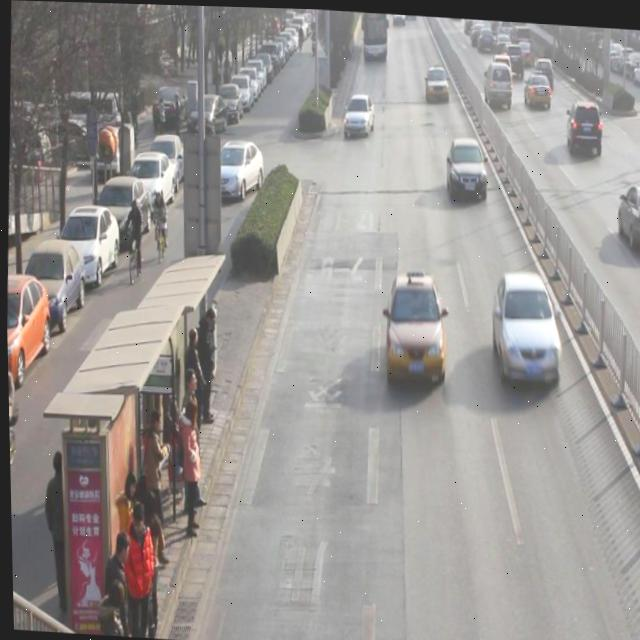car: (489, 266, 562, 384), (384, 265, 445, 386), (207, 132, 265, 201), (445, 134, 489, 202), (565, 95, 604, 154), (613, 177, 640, 250), (341, 88, 376, 137), (522, 66, 551, 108), (423, 61, 450, 101), (506, 38, 525, 73), (535, 54, 555, 86), (518, 37, 536, 64), (477, 23, 496, 48), (512, 22, 531, 45), (494, 29, 512, 51), (471, 19, 485, 43), (493, 49, 511, 64), (501, 19, 515, 33), (393, 12, 406, 25), (489, 17, 502, 24)
truck: (483, 57, 513, 107)
van: (360, 9, 388, 59)
